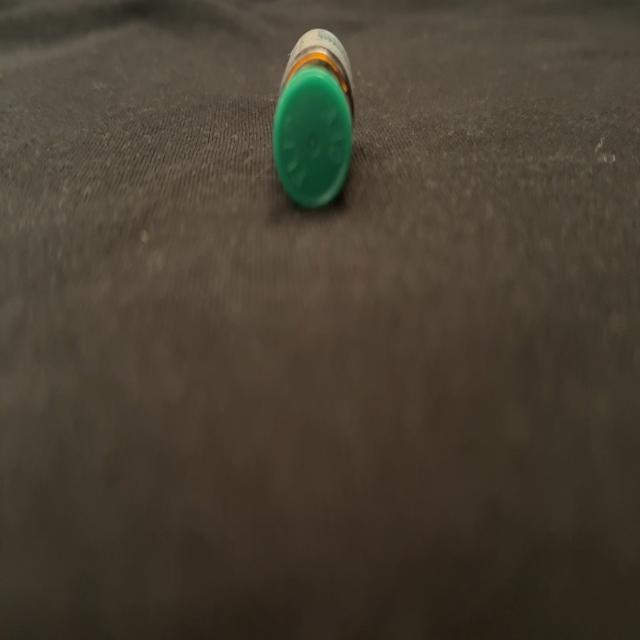midazolm: (274, 32, 353, 207)
